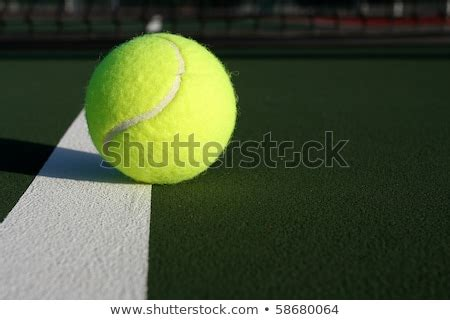tennis_ball: (84, 31, 238, 186)
